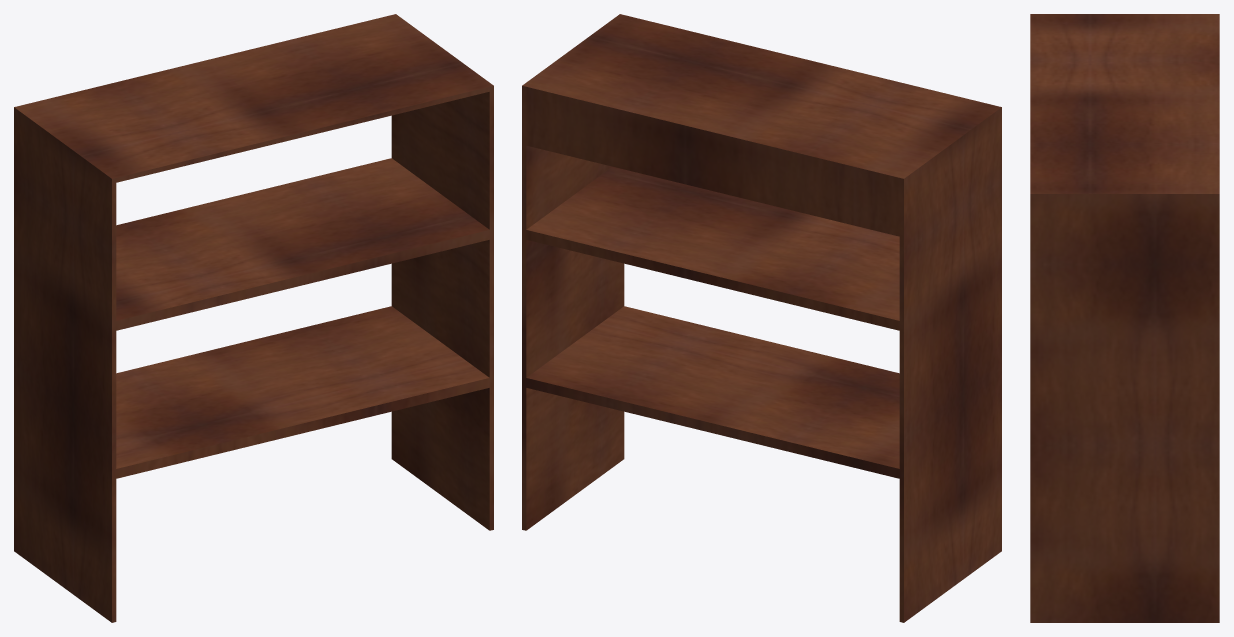
File: Shelf90_FBX.fbx
The picture shows the model from 3 angles, left to right: view 1: azimuth 30°, elevation 25°; view 2: azimuth 150°, elevation 25°; view 3: azimuth 270°, elevation 25°; orthographic projection. The views are drawn at different scales.
Visible parts, largest first — view 1: pCube15; view 2: pCube15; view 3: pCube15.
Boxes of the visible parts, x1,y1,x2,y2 form: pCube15: [14, 14, 493, 622]; pCube15: [522, 14, 1001, 622]; pCube15: [1030, 14, 1219, 622].
Bounding box in the file's own units: 9 × 10 × 4.
